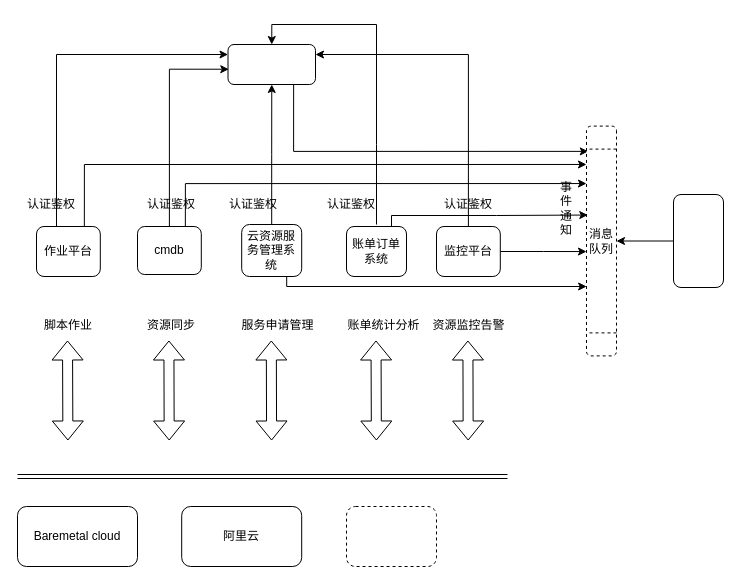
This 741x584 diagram has some shape labels left out. The box of each missing label's shape, as (x1, y1, x2, y2) in pixels:
vmware等。: (346, 506, 436, 566)
事件中心: (672, 194, 724, 288)
身份中心: (227, 44, 316, 84)
